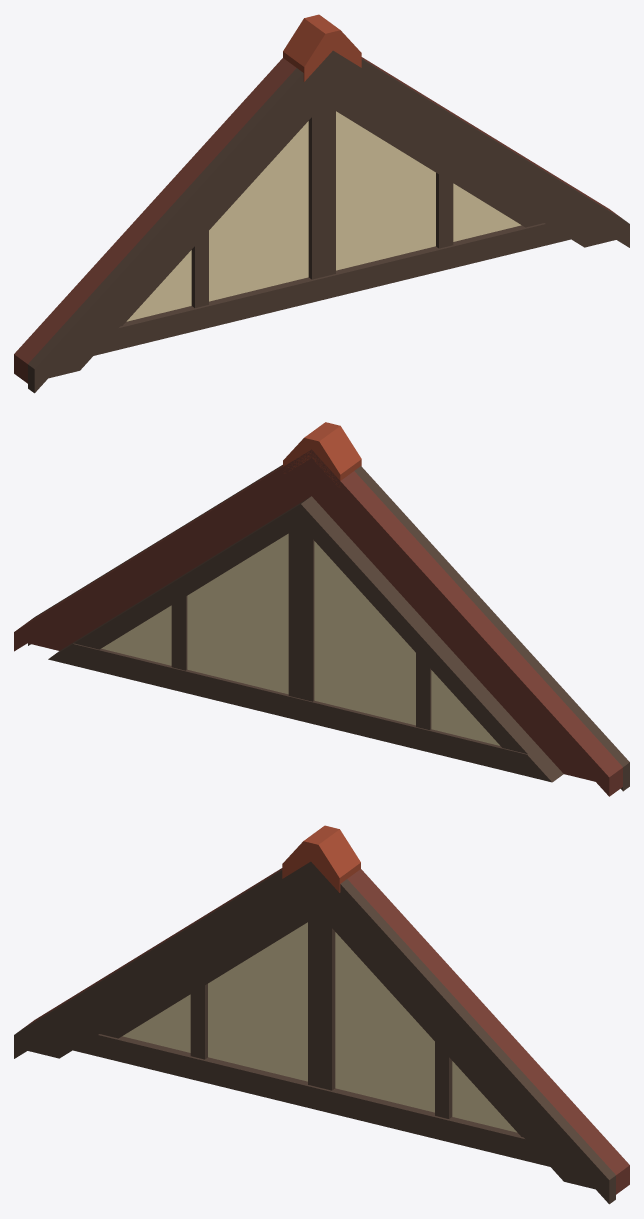
The model's file is king_post_gable.glb.
The picture shows the model from 3 angles, top to bottom: view 1: azimuth 30°, elevation 25°; view 2: azimuth 150°, elevation 25°; view 3: azimuth 330°, elevation 25°; orthographic projection.
Visible parts, largest first — view 1: King-post gable; view 2: King-post gable; view 3: King-post gable.
Part boxes in pixels (left/top/right/bottom): King-post gable: left=14, top=14, right=629, bottom=393; King-post gable: left=14, top=422, right=629, bottom=796; King-post gable: left=14, top=825, right=629, bottom=1204.
Size of the model in its own units: 2.36 by 1.1 by 0.226.
